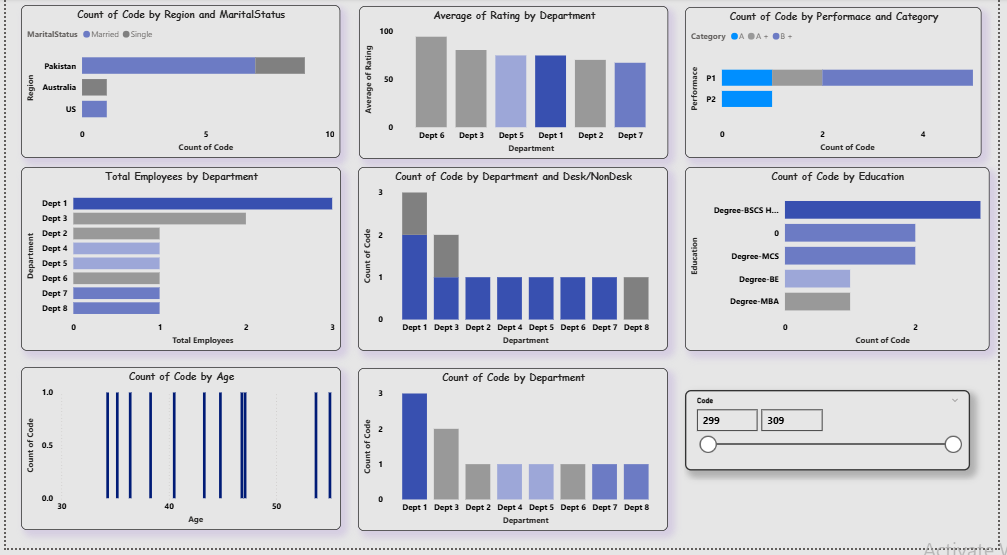

Layout of this report page (visuals, bound fields, positions):
{"tool":"powerbi","page":{"name":"Perfomance & Demographics","canvas":[1480,820],"ordinal":1},"visuals":[{"type":"barChart","fields":{"Category":["HR-data.Region"],"Y":["HR-data.Code"],"Series":["HR-data.MaritalStatus"]},"box":[22,10.3,476.1,227.8],"z":0},{"type":"columnChart","fields":{"Category":["HR-data.Department"],"Y":["HR-data.Rating"]},"box":[526,11.8,461.4,227.8],"z":1000},{"type":"barChart","fields":{"Category":["HR-data.Performace"],"Y":["HR-data.Code"],"Series":["HR-data.Category"]},"box":[1012.4,13.2,442.3,224.8],"z":2000},{"type":"columnChart","fields":{"Category":["HR-data.Department"],"Y":["HR-data.Code"],"Series":["HR-data.Desk/NonDesk"]},"box":[525.5,252.7,461.9,274.4],"z":3000},{"type":"barChart","fields":{"Category":["HR-data.Department"],"Y":["HR-data.Total Employees"]},"box":[21.8,252.7,476.9,274.4],"z":4000},{"type":"barChart","fields":{"Category":["HR-data.Education"],"Y":["HR-data.Code"]},"box":[1012.4,252.7,453.5,274.4],"z":5000},{"type":"columnChart","fields":{"Category":["HR-data.Age"],"Y":["HR-data.Code"]},"box":[21.8,550.6,476.9,242.7],"z":6000},{"type":"columnChart","fields":{"Category":["HR-data.Department"],"Y":["HR-data.Code"]},"box":[525,551,462,243],"z":7000},{"type":"slicer","fields":{"Values":["HR-data.Code"]},"box":[1012.4,584,425.1,120.5],"z":8000}]}

Visuals, with their boxes in screenshot pixels (x1, y1, x2, y2), scaled from the page's 1480x820 canvas onto the 1007x555 screenshot:
barChart - HR-data.Region x HR-data.Code: 15 7 339 161
columnChart - HR-data.Department x HR-data.Rating: 358 8 672 162
barChart - HR-data.Performace x HR-data.Code: 689 9 990 161
columnChart - HR-data.Department x HR-data.Code: 358 171 672 357
barChart - HR-data.Department x HR-data.Total Employees: 15 171 339 357
barChart - HR-data.Education x HR-data.Code: 689 171 997 357
columnChart - HR-data.Age x HR-data.Code: 15 373 339 537
columnChart - HR-data.Department x HR-data.Code: 357 373 672 537
slicer - HR-data.Code: 689 395 978 477
